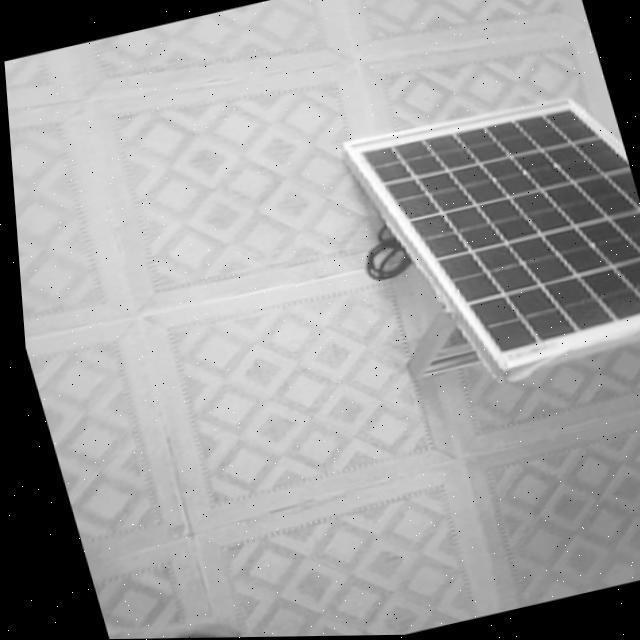Normal Solar Panel: (335, 85, 640, 402)
